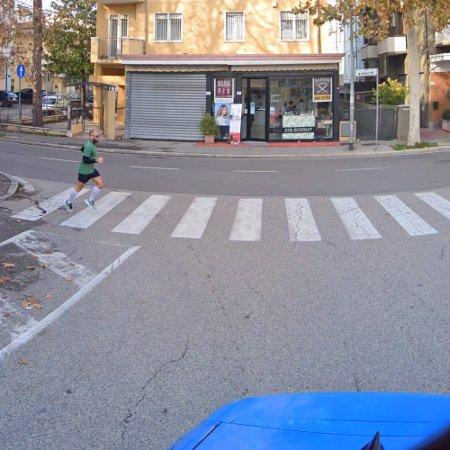crosswalks: (8, 182, 450, 245)
